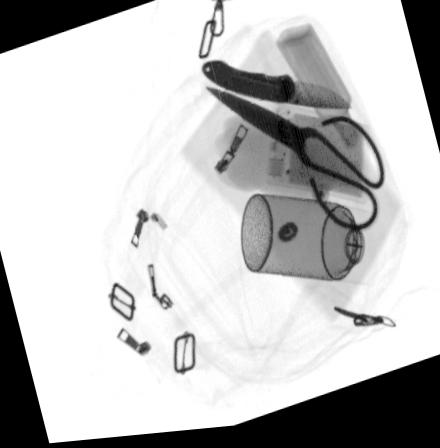Knife: (200, 61, 358, 117)
Powerbank: (262, 103, 384, 214)
Scissors: (196, 84, 389, 241)
Sprayer: (239, 200, 383, 293)
